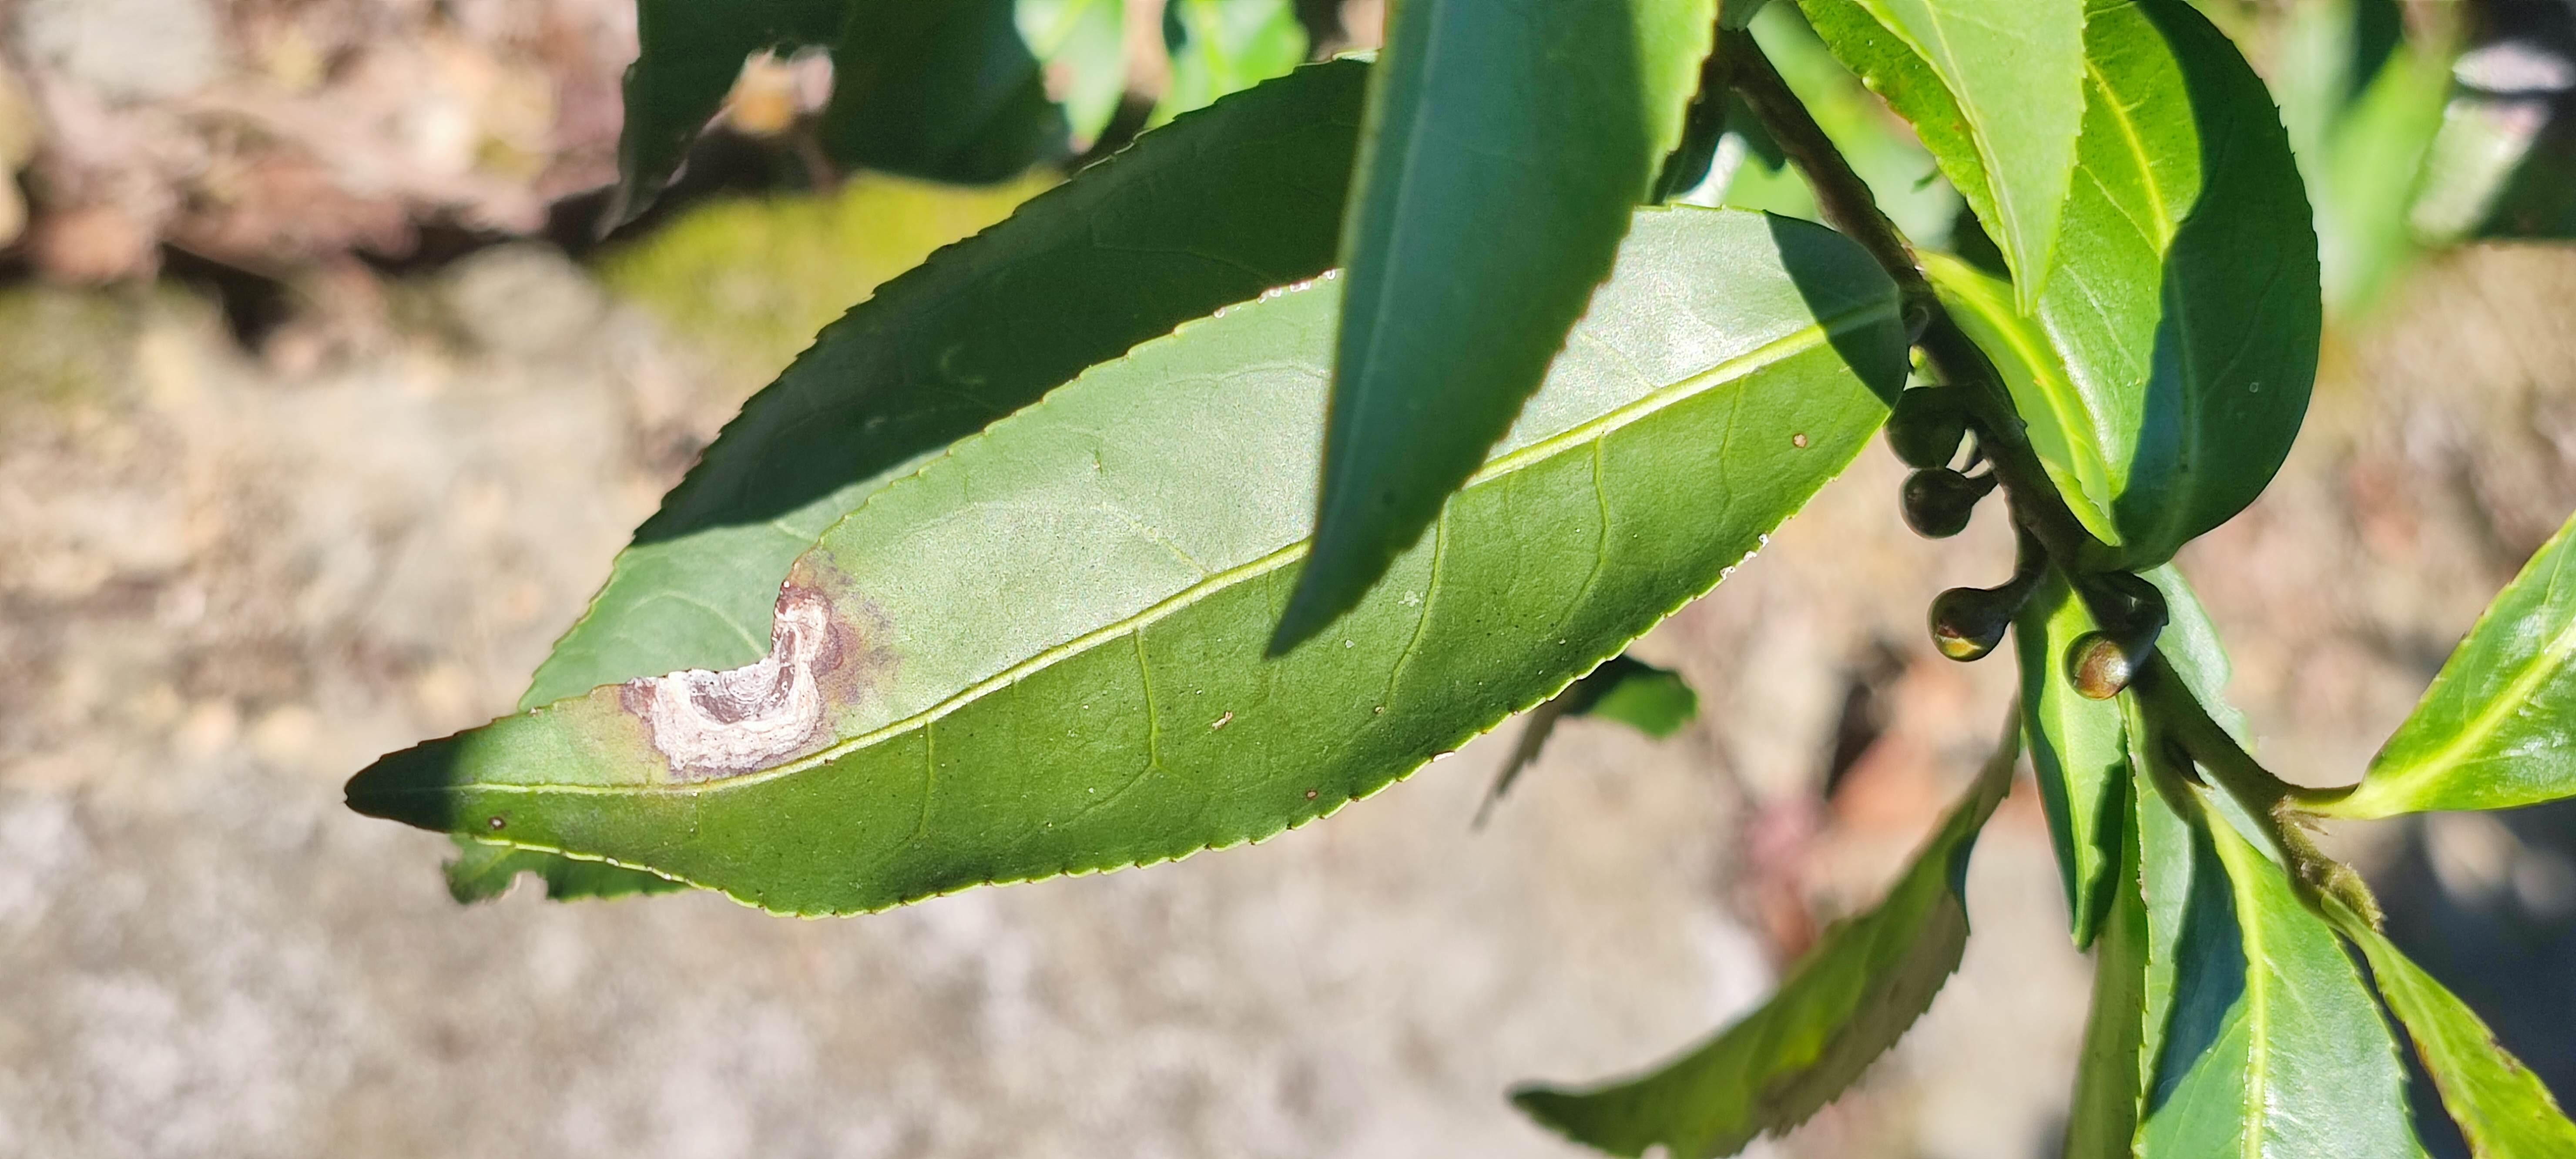tanju_high: (333, 200, 1917, 926)
